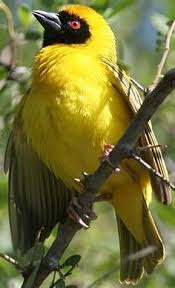target: (25, 2, 172, 284)
